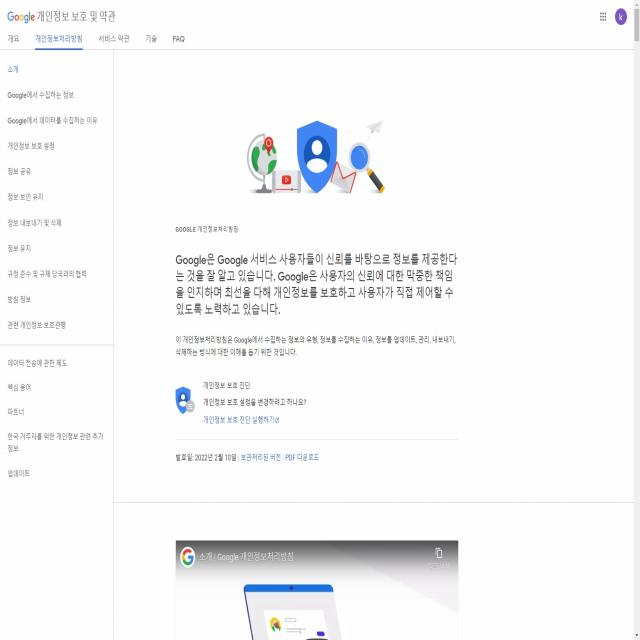content: (2, 59, 114, 639)
menu-bar: (4, 26, 192, 50), (592, 5, 630, 28)
